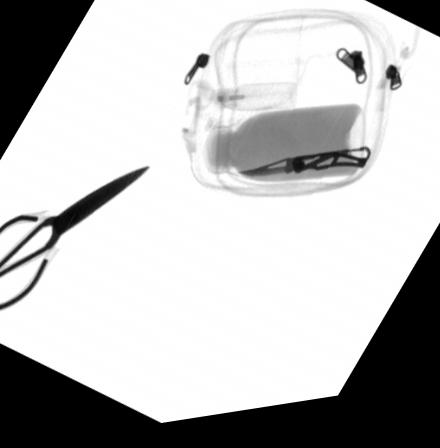Knife: (237, 158, 371, 185)
Scissors: (0, 170, 152, 309)
